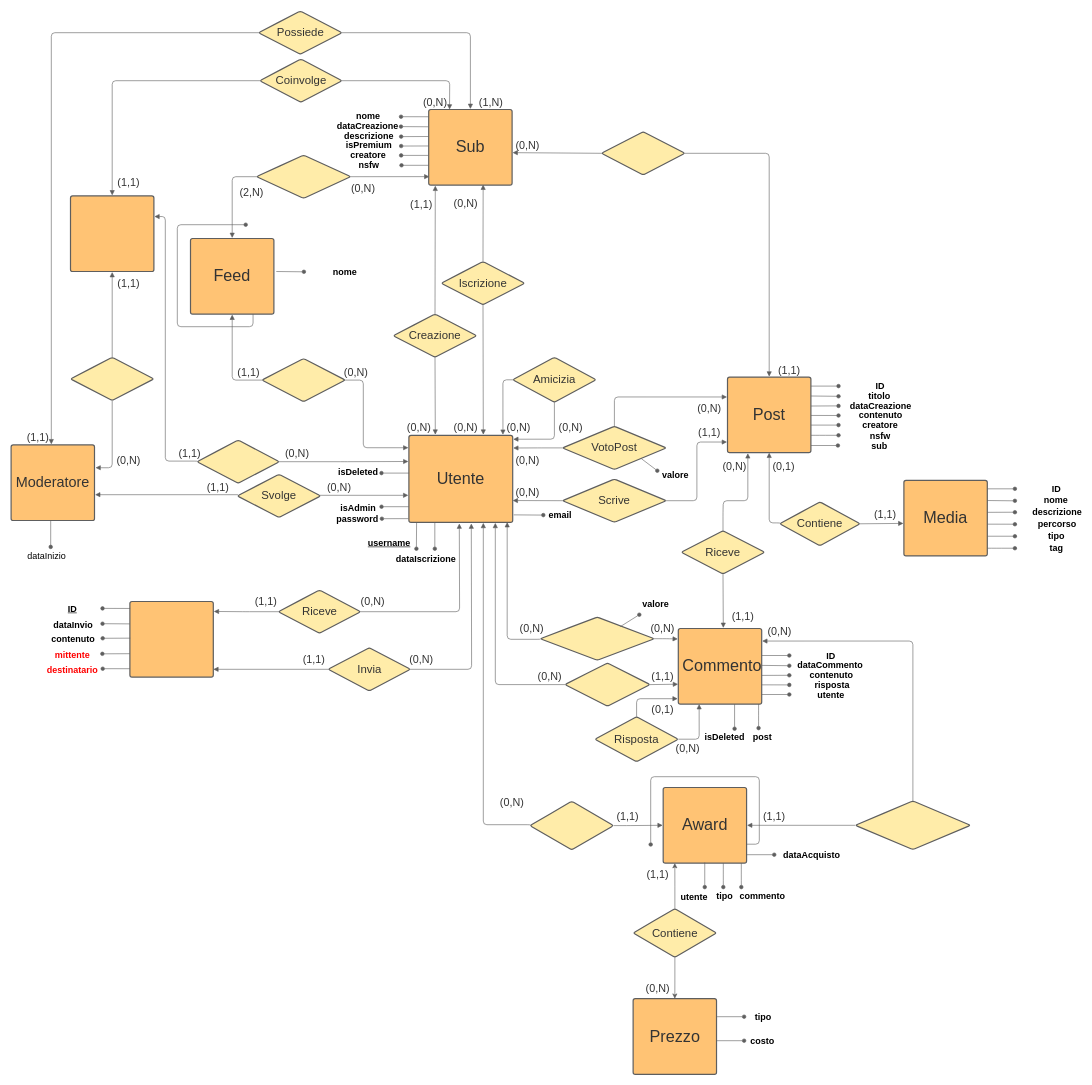
The diagram is 1092 pixels wide and 1085 high, and some of its shapes have lost their labels. Here are the shapes that lost their labels. From the top down, the centre of each, then its label:
(x=643, y=153): Comprende
(x=303, y=176): Include
(x=112, y=233): Ban
(x=112, y=378): Effettua
(x=303, y=380): Compone
(x=238, y=461): Subisce
(x=171, y=639): Messaggio
(x=597, y=638): VotoCommento
(x=607, y=684): Aggiunta
(x=571, y=825): Assegna
(x=912, y=825): Ottiene
